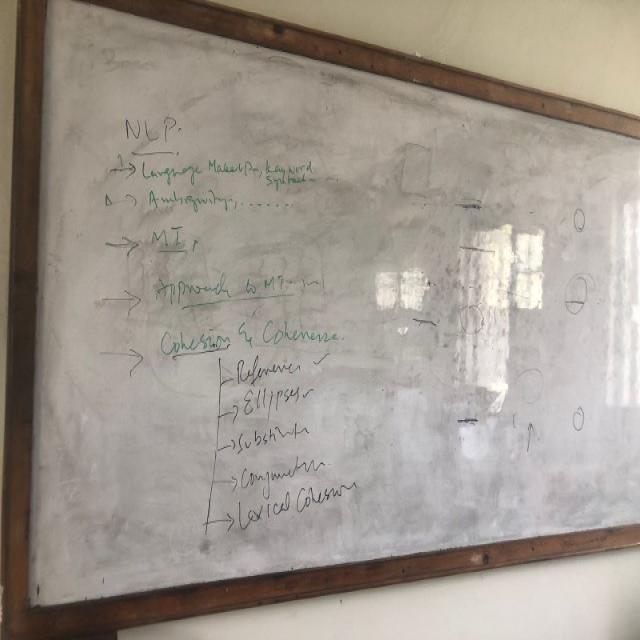White-board: (21, 2, 640, 637)
